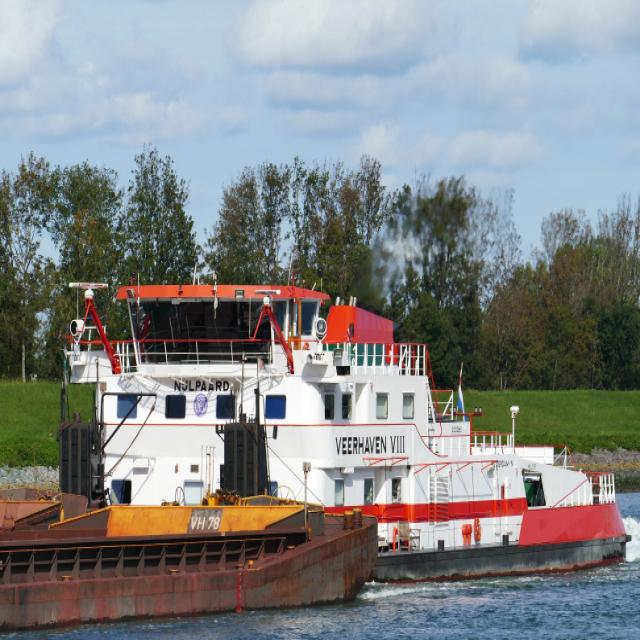tugboat: (56, 269, 636, 590)
